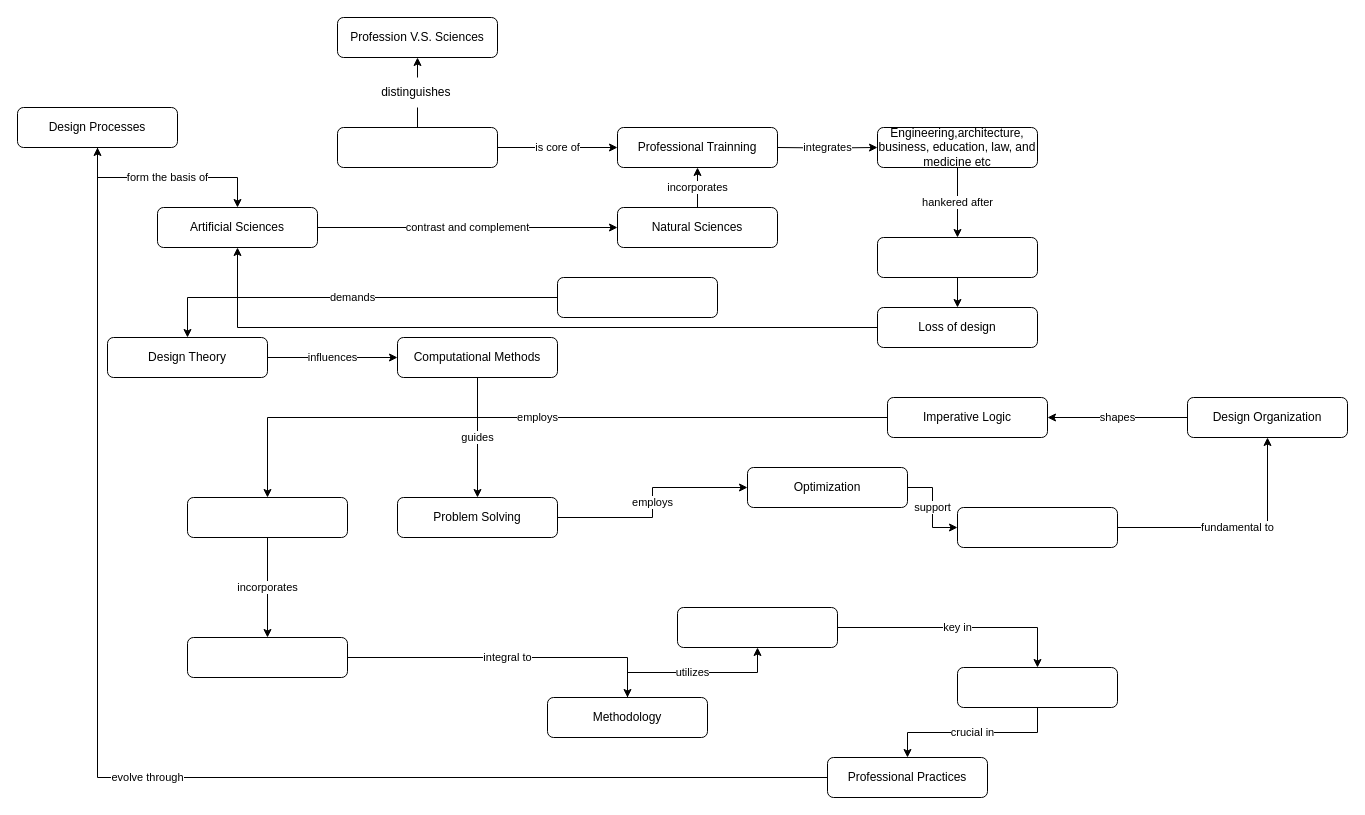
This 1365x815 diagram has some shape labels left out. The shapes that lost their labels are listed below. From the top down, each one's centre as x and y in pixels, then its label:
At [417,147]: "Design".
At [957,257]: "Academic respectability".
At [637,297]: "Curriculum Development".
At [267,517]: "Declarative Logic".
At [1037,527]: "Resource Allocation".
At [757,627]: "Heuristic Search".
At [267,657]: "Logic of Design".
At [1037,687]: "Educational Shifts".
